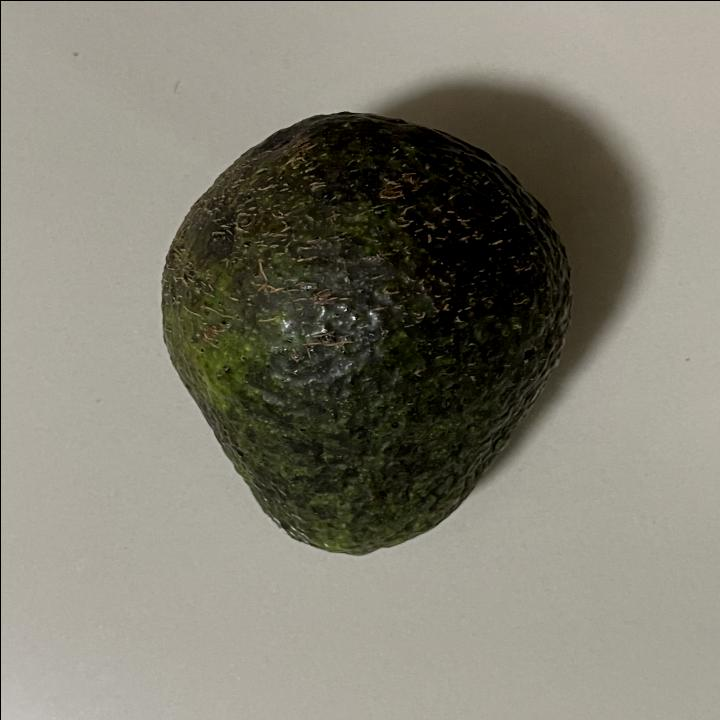Level1: (136, 96, 582, 568)
